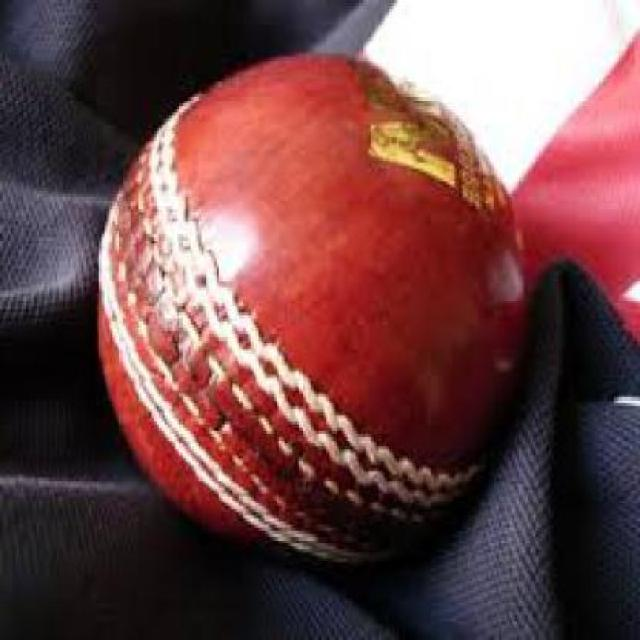ball: (70, 32, 534, 548)
